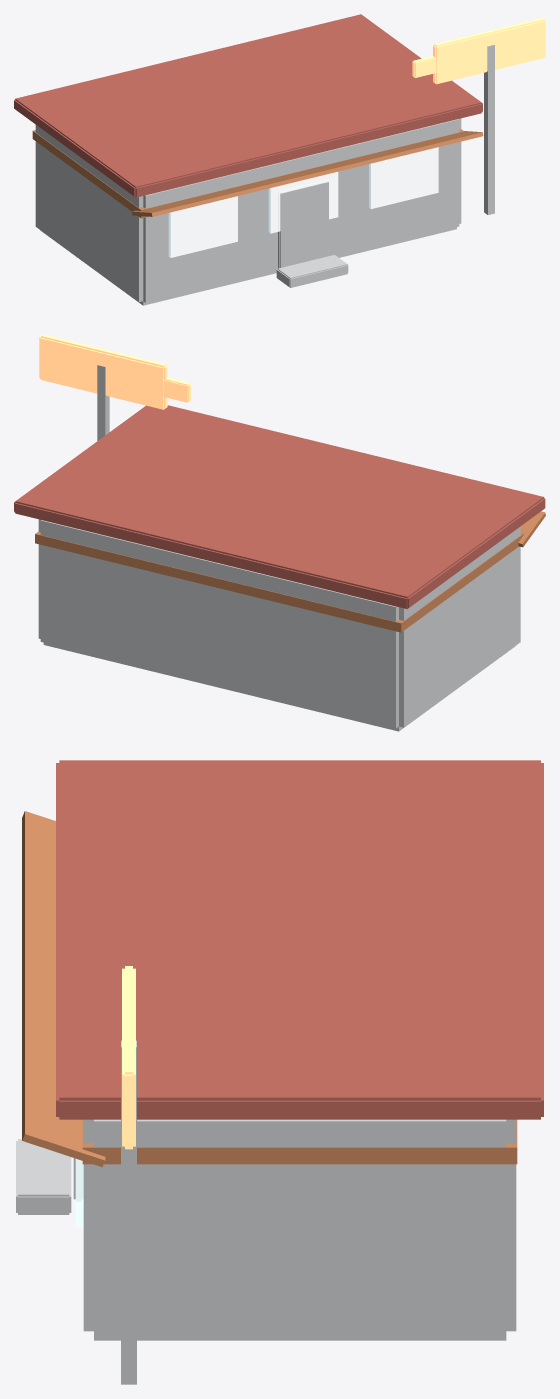
Rendered from diner.glb.
3 renders of one model, top to bottom at view 1: azimuth 30°, elevation 25°; view 2: azimuth 150°, elevation 25°; view 3: azimuth 270°, elevation 25°, orthographic. The views are drawn at different scales.
Parts seen in each view (by area): view 1: Roof, Body, Sign, Door, Window_0, Window_2, Awning, Post, Stripe, Steps, Window_1, Arrow; view 2: Roof, Body, Sign, Stripe, Post, Arrow; view 3: Roof, Body, Awning, Stripe, Post, Steps, Sign.
Part boxes in pixels (<box>): Roof: <box>14,14,482,197</box>; Body: <box>35,118,461,305</box>; Sign: <box>433,18,545,84</box>; Door: <box>278,181,329,268</box>; Window_0: <box>369,147,438,208</box>; Window_2: <box>168,196,237,257</box>; Awning: <box>131,131,483,216</box>; Post: <box>484,44,494,214</box>; Stripe: <box>32,129,464,218</box>; Steps: <box>276,255,348,287</box>; Window_1: <box>268,171,338,233</box>; Arrow: <box>412,56,436,77</box>; Roof: <box>14,405,545,609</box>; Body: <box>38,519,520,731</box>; Sign: <box>39,334,167,409</box>; Stripe: <box>35,531,524,632</box>; Post: <box>97,365,109,440</box>; Arrow: <box>163,377,190,402</box>; Roof: <box>56,760,543,1119</box>; Body: <box>83,1119,516,1340</box>; Awning: <box>22,811,105,1167</box>; Stripe: <box>82,1119,517,1164</box>; Post: <box>121,1040,136,1384</box>; Steps: <box>16,1139,71,1214</box>; Sign: <box>122,966,135,1149</box>.
Size of the model in its own units: 9.83 by 3.97 by 5.25.
